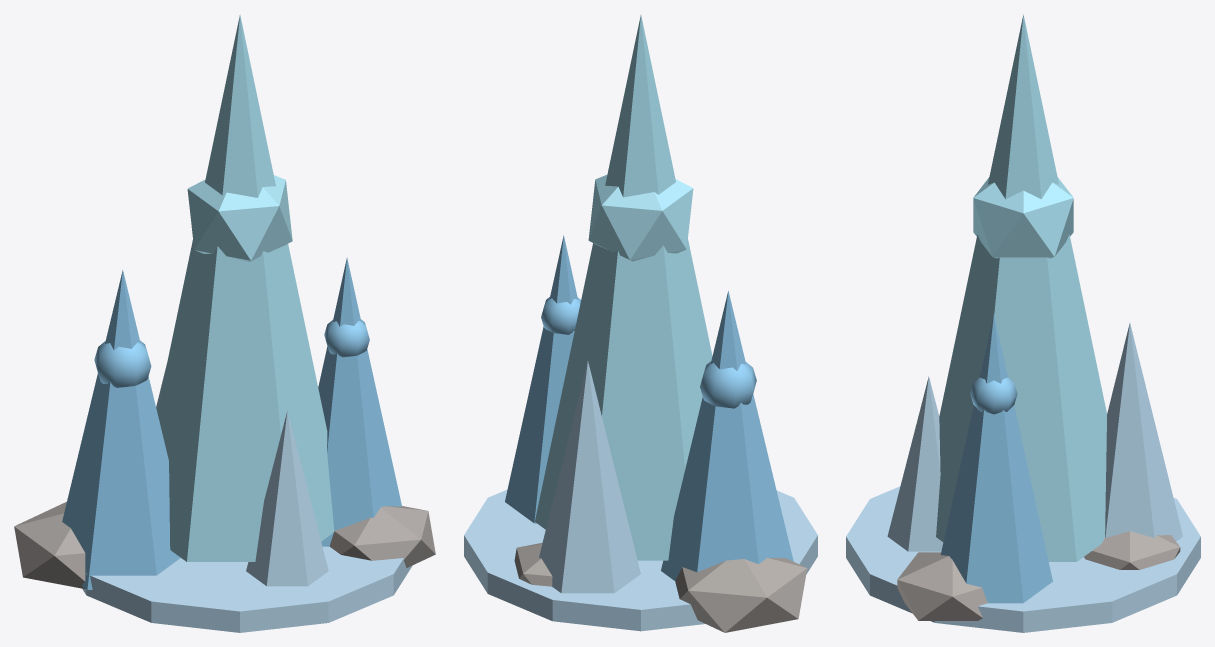
File: crystal_blue.glb
The picture shows the model from 3 angles, left to right: view 1: azimuth 30°, elevation 25°; view 2: azimuth 150°, elevation 25°; view 3: azimuth 270°, elevation 25°; orthographic projection.
Parts seen in each view (by area): view 1: main, left, base_disc, right, front, glow, rock2, rock1, glow_sm, glow_sm2; view 2: main, left, base_disc, back, rock1, right, glow, glow_sm, rock3, glow_sm2; view 3: main, right, base_disc, back, glow, front, rock2, rock3, glow_sm2.
Boxes of the visible parts, left/top/right/bottom form: main: left=157, top=14, right=334, bottom=561; left: left=62, top=270, right=180, bottom=589; base_disc: left=82, top=546, right=412, bottom=632; right: left=318, top=257, right=401, bottom=546; front: left=246, top=411, right=328, bottom=586; glow: left=187, top=175, right=292, bottom=262; rock2: left=329, top=506, right=435, bottom=567; rock1: left=14, top=501, right=85, bottom=588; glow_sm: left=94, top=340, right=151, bottom=387; glow_sm2: left=324, top=319, right=369, bottom=357; main: left=535, top=15, right=712, bottom=560; left: left=661, top=291, right=793, bottom=581; base_disc: left=464, top=489, right=817, bottom=631; back: left=539, top=361, right=640, bottom=593; rock1: left=675, top=557, right=807, bottom=632; right: left=505, top=235, right=577, bottom=523; glow: left=588, top=175, right=693, bottom=261; glow_sm: left=700, top=361, right=756, bottom=408; rock3: left=514, top=543, right=552, bottom=586; glow_sm2: left=541, top=297, right=580, bottom=334; main: left=936, top=14, right=1106, bottom=561; right: left=940, top=314, right=1052, bottom=603; base_disc: left=846, top=486, right=1200, bottom=632; back: left=1105, top=323, right=1182, bottom=541; glow: left=973, top=177, right=1073, bottom=258; front: left=887, top=376, right=943, bottom=551; rock2: left=897, top=552, right=987, bottom=620; rock3: left=1084, top=531, right=1180, bottom=569; glow_sm2: left=970, top=377, right=1017, bottom=414.
Size of the model in its own units: 0.6663 by 1.05 by 0.6.
